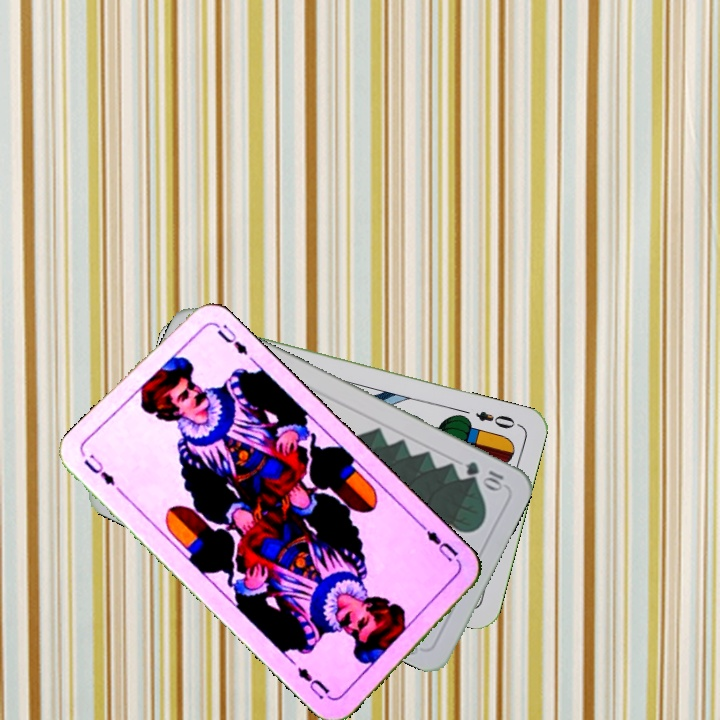EO: (471, 407, 518, 432)
EU: (417, 520, 464, 568), (79, 449, 118, 489)
G10: (461, 457, 506, 492)
